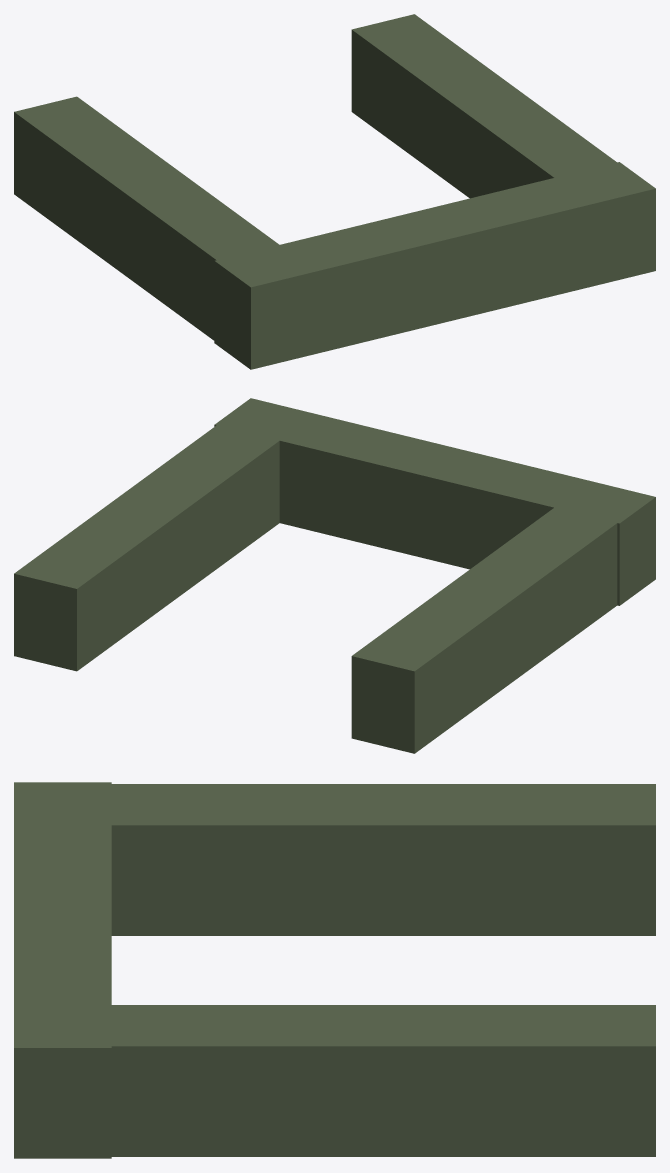
The model's file is SM_RivLampArch.obj.
3 views of the same model, one above another, from view 1: azimuth 30°, elevation 25°; view 2: azimuth 150°, elevation 25°; view 3: azimuth 270°, elevation 25° (orthographic). The views are drawn at different scales.
Visible parts, largest first — view 1: SM_RivLampArch; view 2: SM_RivLampArch; view 3: SM_RivLampArch.
Part boxes in pixels (left/top/right/bottom): SM_RivLampArch: left=14, top=14, right=655, bottom=369; SM_RivLampArch: left=14, top=398, right=655, bottom=753; SM_RivLampArch: left=14, top=782, right=655, bottom=1158.
Size of the model in its own units: 180 by 35 by 184.
